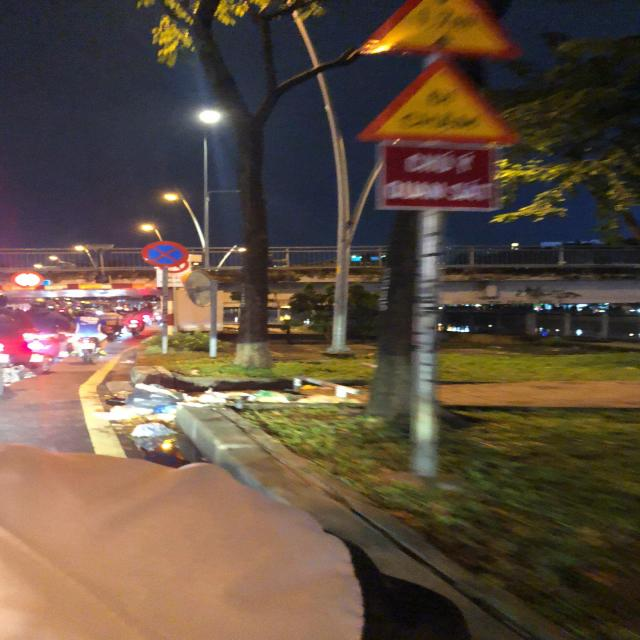Bien bao cam dung xe va do xe: (136, 236, 188, 268)
